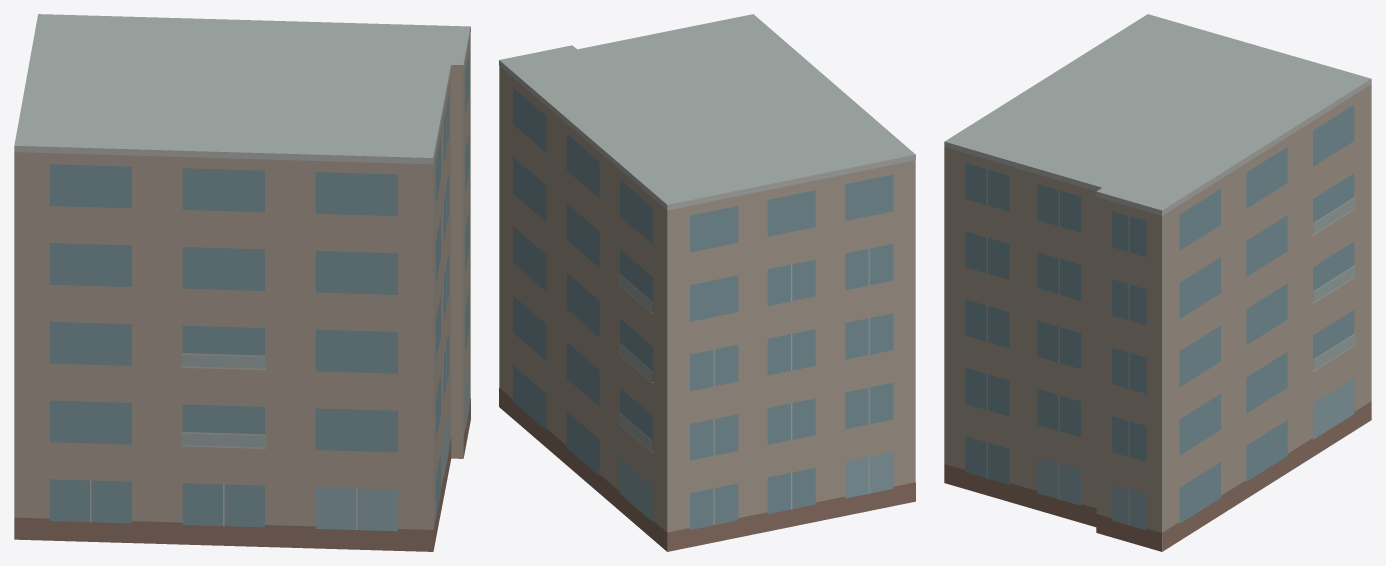
The model's file is survey-upis-32673416.glb.
The picture shows the model from 3 angles, left to right: view 1: azimuth 30°, elevation 25°; view 2: azimuth 150°, elevation 25°; view 3: azimuth 270°, elevation 25°; orthographic projection. The views are drawn at different scales.
Parts seen in each view (by area): view 1: survey-upis-32673416.tmp; view 2: survey-upis-32673416.tmp; view 3: survey-upis-32673416.tmp.
Part boxes in pixels (x1,y1,x2,y2): survey-upis-32673416.tmp: [14, 14, 470, 551]; survey-upis-32673416.tmp: [499, 14, 915, 551]; survey-upis-32673416.tmp: [944, 14, 1371, 551].
Bounding box in the file's own units: 18.84 × 15.25 × 17.31.
